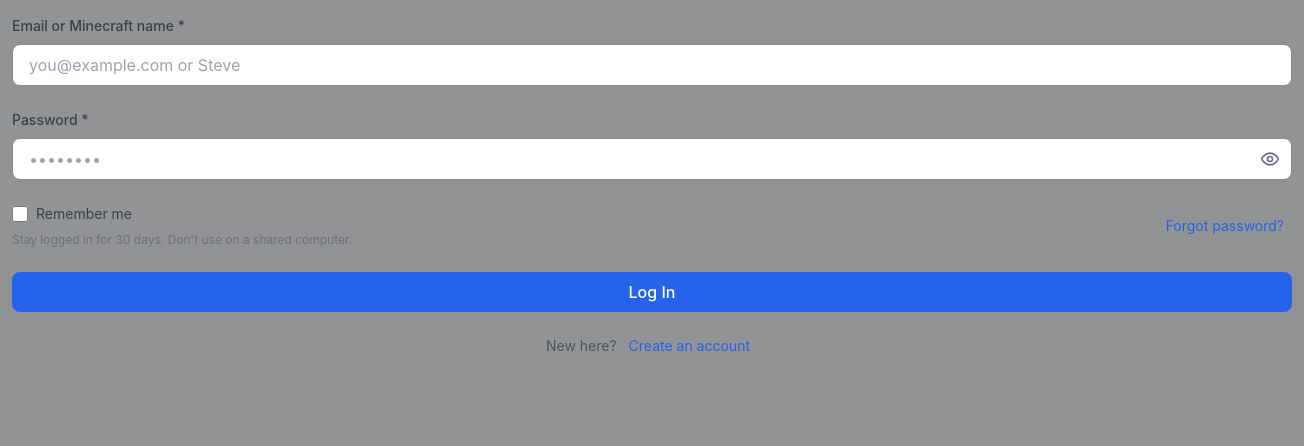
Test: LoginForm › submitting › shows the lockout message
Type "Steve" into the field labelled "Email or Minecraft name *". click: (652, 65)
box: x1=12 y1=44 x2=1292 y2=86
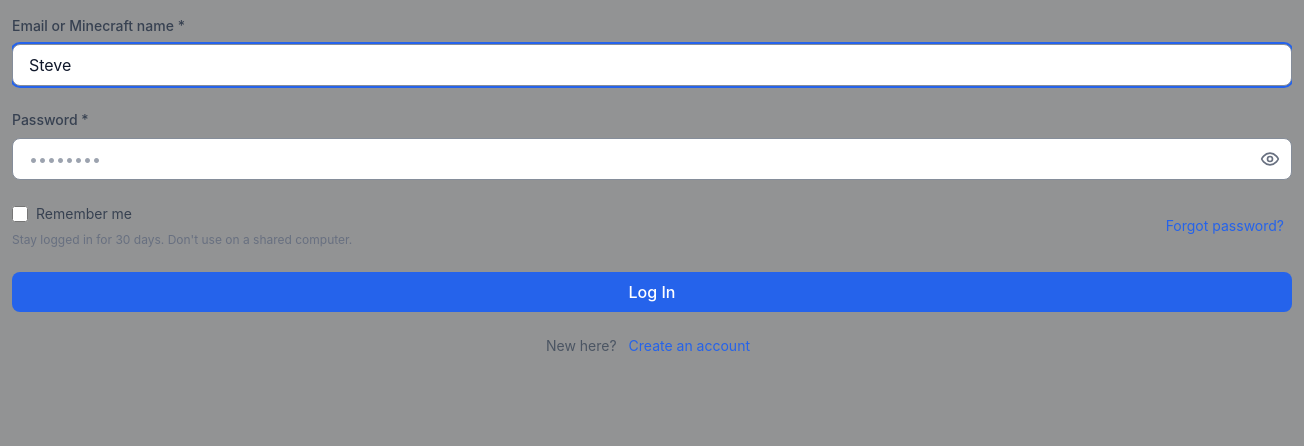
Type "wrong" into the password field labelled "Password *". click: (652, 159)
box: x1=12 y1=138 x2=1292 y2=180
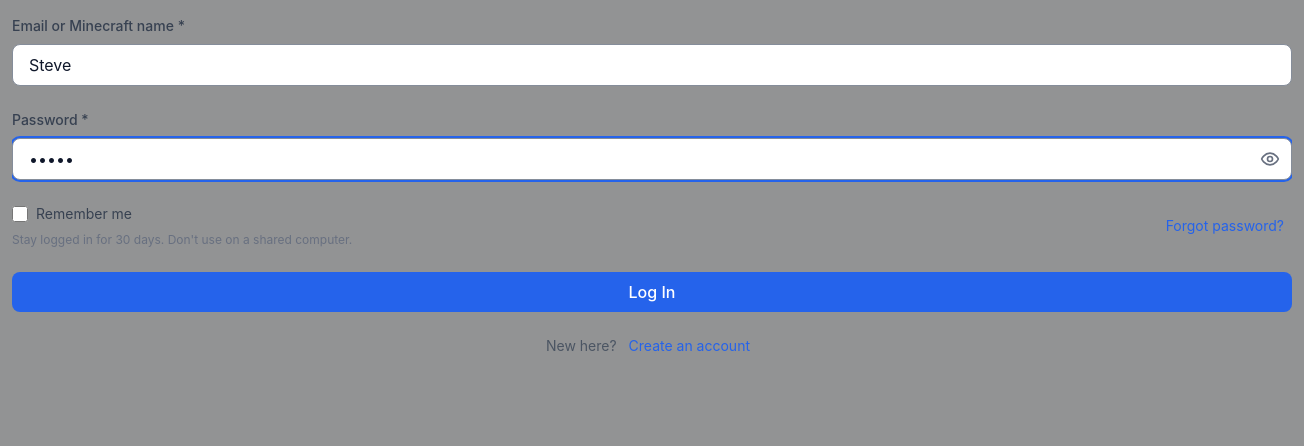
Click the button "Log In". click: (652, 292)
box: x1=12 y1=272 x2=1292 y2=312
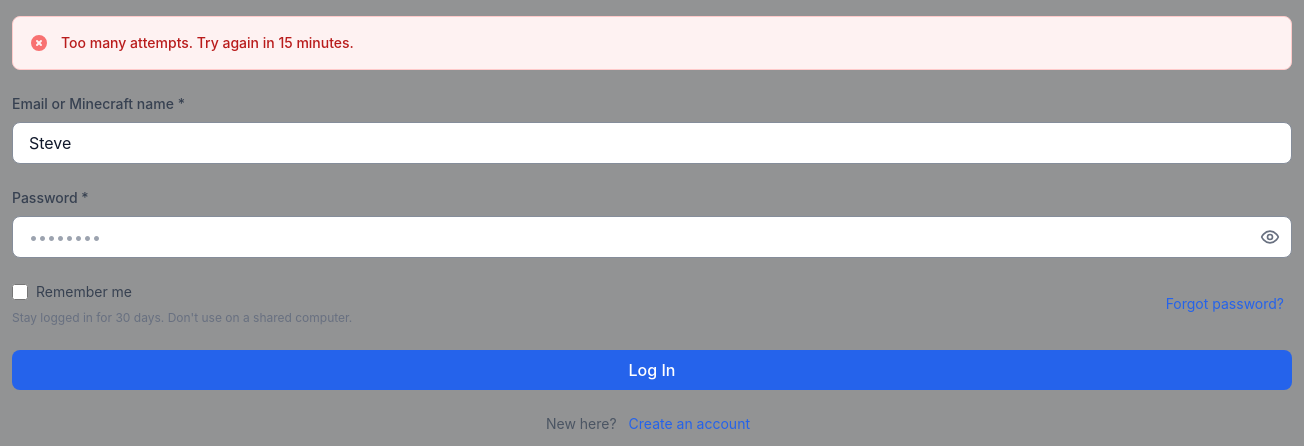
Expected: the element with test id "login-error" reads "Too many attempts. Try again in 15 minutes.", x1=61 y1=34 x2=354 y2=51
